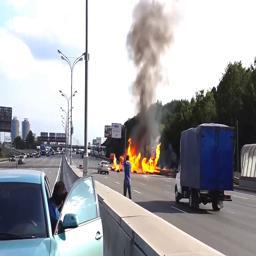fire: (112, 139, 167, 172)
